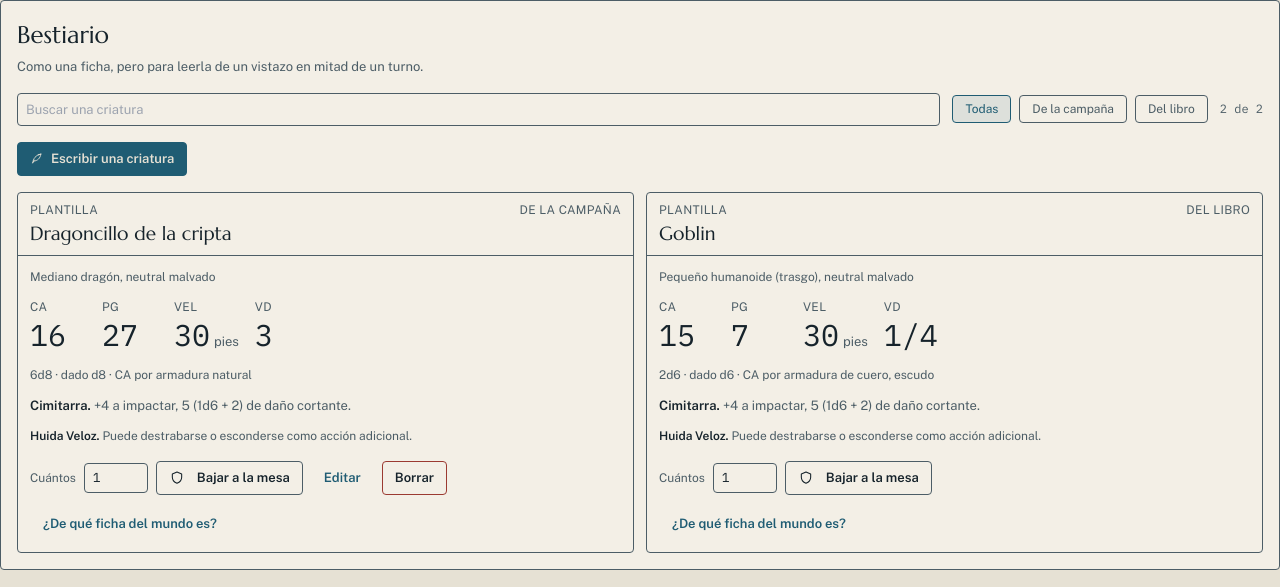
it: PanelDeBestiario — buscar y filtrar › filtra por origen
This screenshot has width=1280, height=587.
Expected: the heading "Goblin" is shown, [659,220,716,244]
Click the button "De la campaña" at {"x": 1073, "y": 109}, box [1019,95,1127,123]
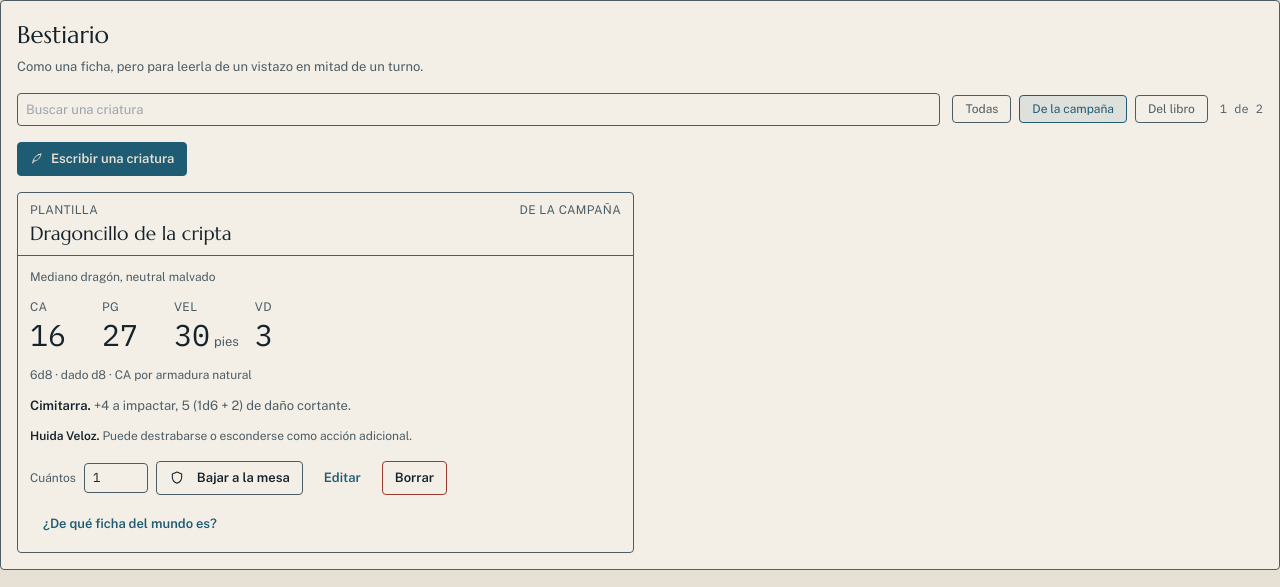
Expected: the heading "Dragoncillo de la cripta" is shown, [30,218,232,247]
Expected: the heading "Goblin" is gone
